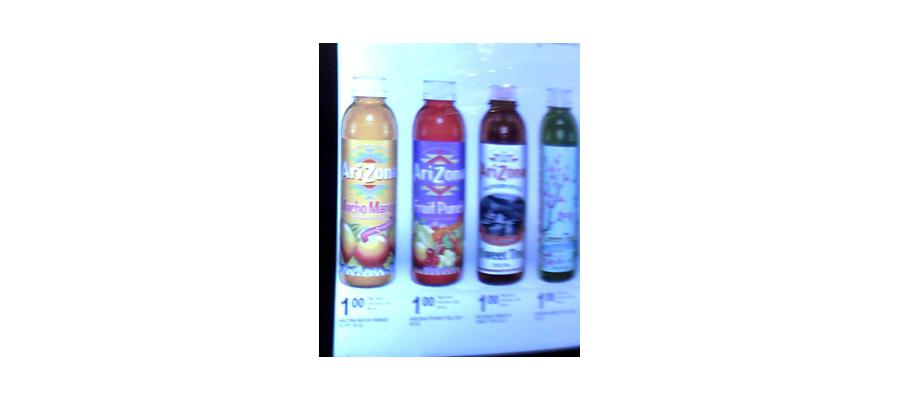bottle: (472, 81, 527, 289), (411, 80, 467, 282), (343, 84, 397, 275), (541, 78, 576, 279)
